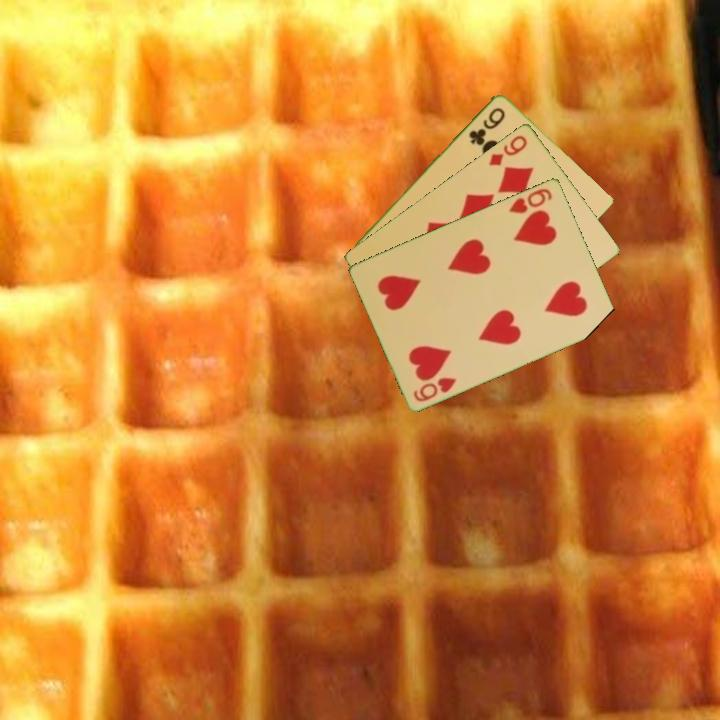6h: (505, 184, 555, 216), (410, 373, 459, 405)
9c: (465, 104, 508, 147)
9d: (485, 131, 530, 168)
